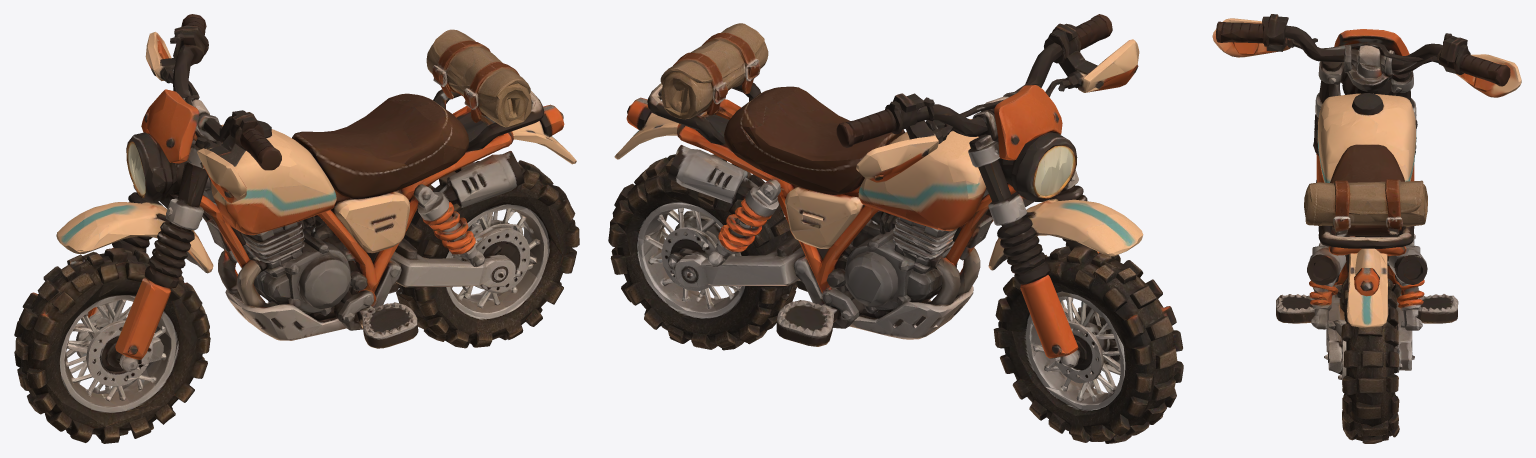
File: desert-bike.glb
The picture shows the model from 3 angles, left to right: view 1: azimuth 30°, elevation 25°; view 2: azimuth 150°, elevation 25°; view 3: azimuth 270°, elevation 25°; orthographic projection. The views are drawn at different scales.
Visible parts, largest first — view 1: Mesh_0; view 2: Mesh_0; view 3: Mesh_0.
Part boxes in pixels (x1,y1,x2,y2): Mesh_0: (14, 14, 579, 443); Mesh_0: (608, 14, 1183, 443); Mesh_0: (1212, 14, 1521, 443).
Size of the model in its own units: 1.9 by 1.13 by 1.07.
1 material, 1 textured.
